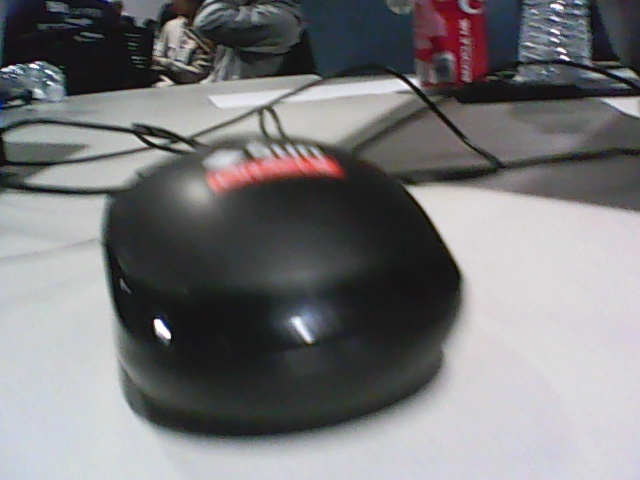mouse: (104, 140, 462, 422)
